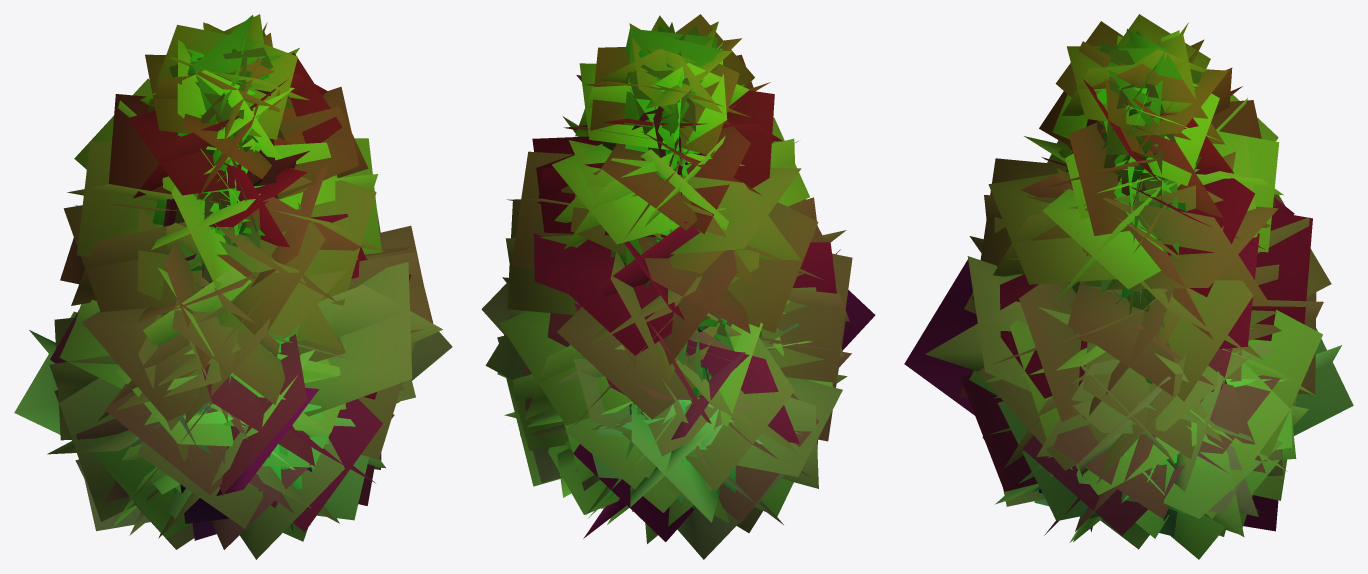
Rendered from SM_Fir_Tree_01.fbx.
3 renders of one model, left to right at view 1: azimuth 30°, elevation 25°; view 2: azimuth 150°, elevation 25°; view 3: azimuth 270°, elevation 25°, orthographic. The views are drawn at different scales.
Visible parts, largest first — view 1: branch08_1; view 2: branch08_1; view 3: branch08_1.
Part boxes in pixels (left/top/right/bottom): branch08_1: left=14, top=14, right=452, bottom=559; branch08_1: left=481, top=14, right=875, bottom=559; branch08_1: left=904, top=14, right=1353, bottom=559.
Bounding box in the file's own units: 90.07 × 122 × 100.
